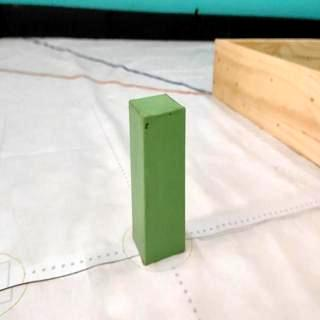greenbox: (127, 92, 188, 264)
